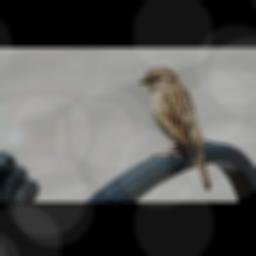Sparrow: (139, 66, 211, 190)
